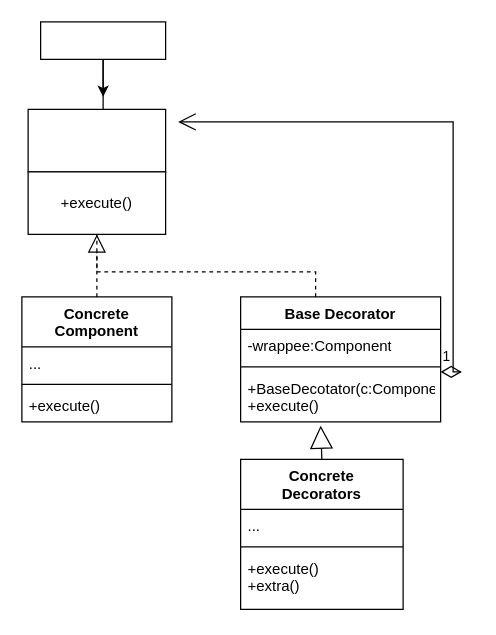
The diagram is 496 pixels wide and 635 high, and some of its shapes have lost their labels. The shapes that lost their labels are listed below. From the top down, each one's centre as x and y in pixels, then its label:
At (x=102, y=40): "Client".
At (x=96, y=140): "«interface» Component".
